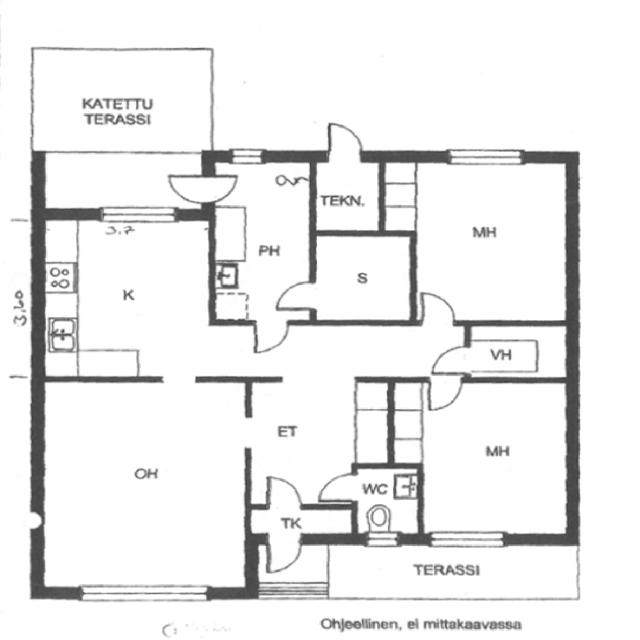door: (160, 170, 235, 205), (316, 118, 369, 162), (415, 288, 462, 329), (273, 278, 321, 315), (424, 372, 466, 414), (314, 470, 361, 506), (249, 319, 292, 358), (260, 473, 305, 510), (429, 343, 474, 378), (265, 538, 306, 576)
window: (73, 575, 216, 607), (441, 143, 529, 172), (92, 201, 182, 228), (424, 527, 512, 553), (223, 143, 270, 167), (359, 529, 404, 551)
zone: (39, 378, 251, 593), (385, 157, 577, 323), (393, 378, 577, 538), (40, 215, 218, 378), (242, 380, 392, 500), (211, 157, 313, 327), (314, 232, 412, 325), (463, 321, 573, 382), (314, 156, 382, 234), (356, 466, 419, 540)
